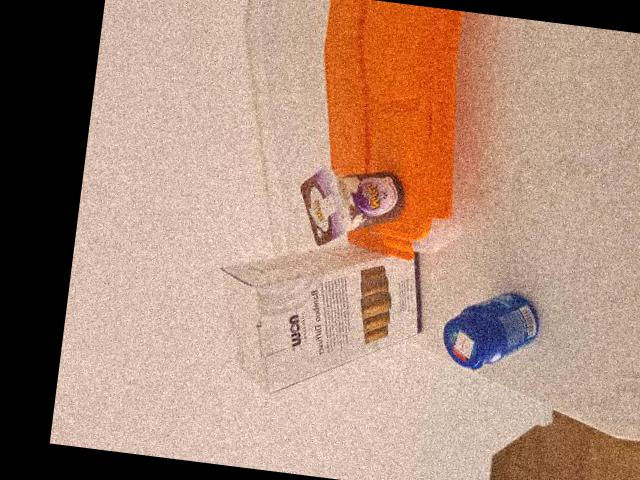milky: (292, 161, 410, 257)
